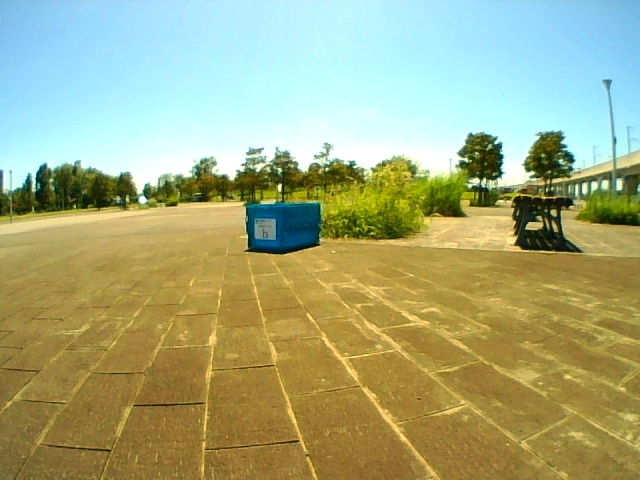blue_box: (247, 204, 321, 245)
tag_b: (255, 222, 275, 238)
